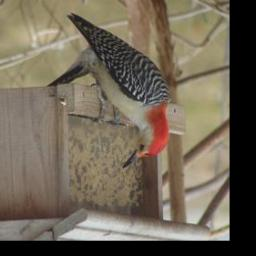Woodpecker: (55, 18, 175, 170)
